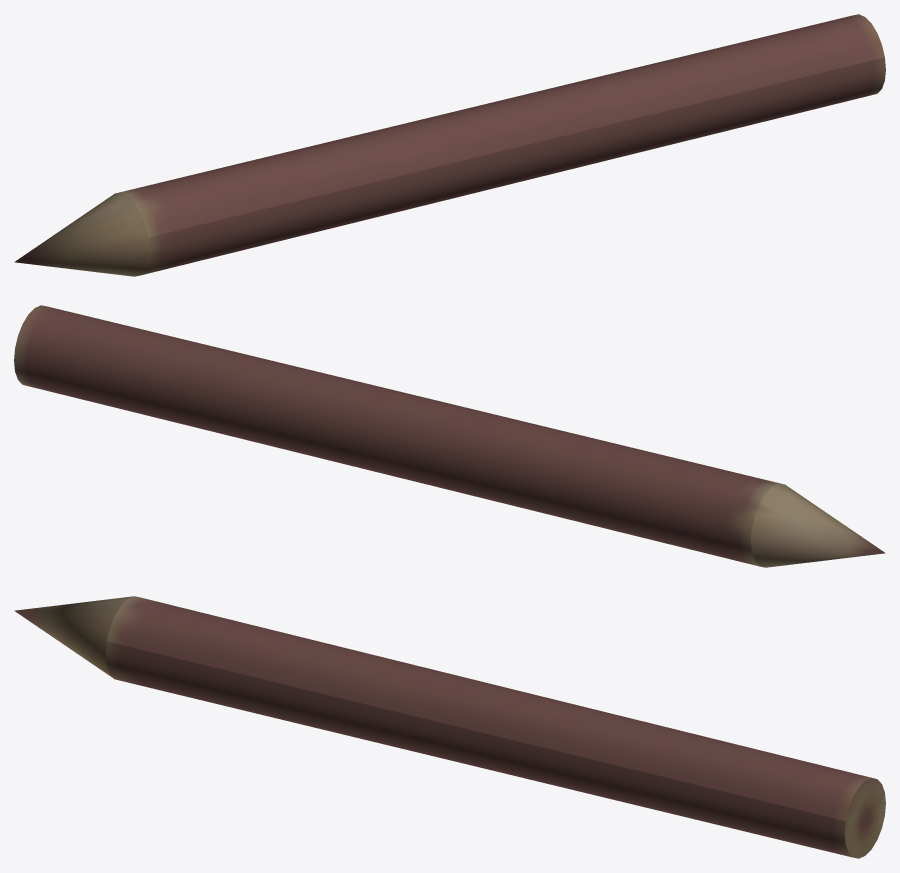
The model's file is SM_Farm_Pencil_05.fbx.
3 renders of one model, top to bottom at view 1: azimuth 30°, elevation 25°; view 2: azimuth 150°, elevation 25°; view 3: azimuth 330°, elevation 25°, orthographic.
Visible parts, largest first — view 1: SM_Farm_Pencil_05_LOD0; view 2: SM_Farm_Pencil_05_LOD0; view 3: SM_Farm_Pencil_05_LOD0.
Part boxes in pixels (x1,y1,x2,y2): SM_Farm_Pencil_05_LOD0: (14,14,885,276); SM_Farm_Pencil_05_LOD0: (14,305,885,567); SM_Farm_Pencil_05_LOD0: (14,596,885,858).
Bounding box in the file's own units: 25.32 × 2.23 × 2.23.
